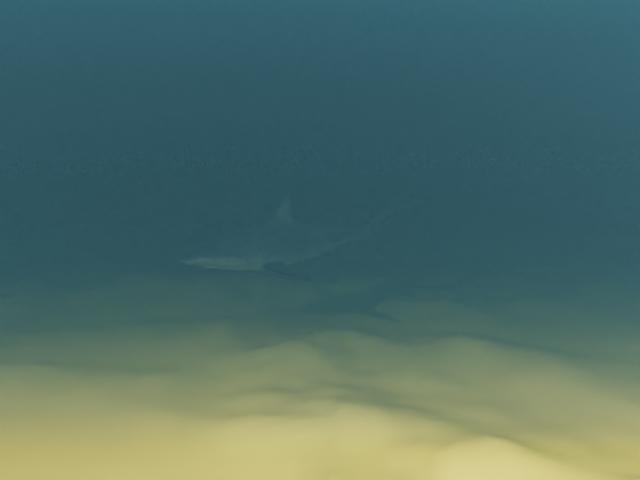Carribean Shark.001: (178, 193, 417, 282)
